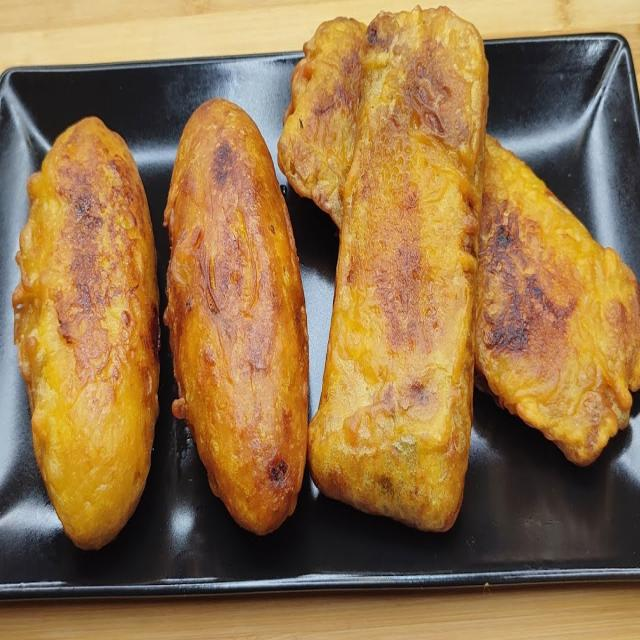papa: (5, 112, 164, 550)
